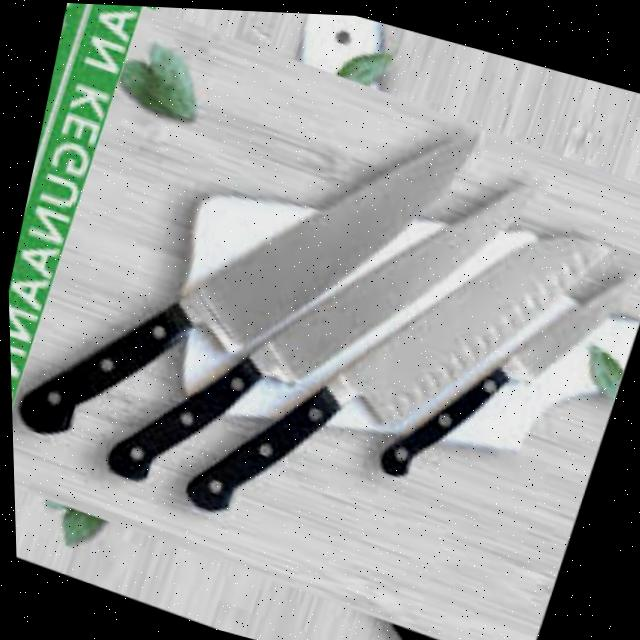knife: (1, 23, 488, 536), (89, 81, 547, 573), (167, 138, 621, 603), (361, 202, 640, 531)
